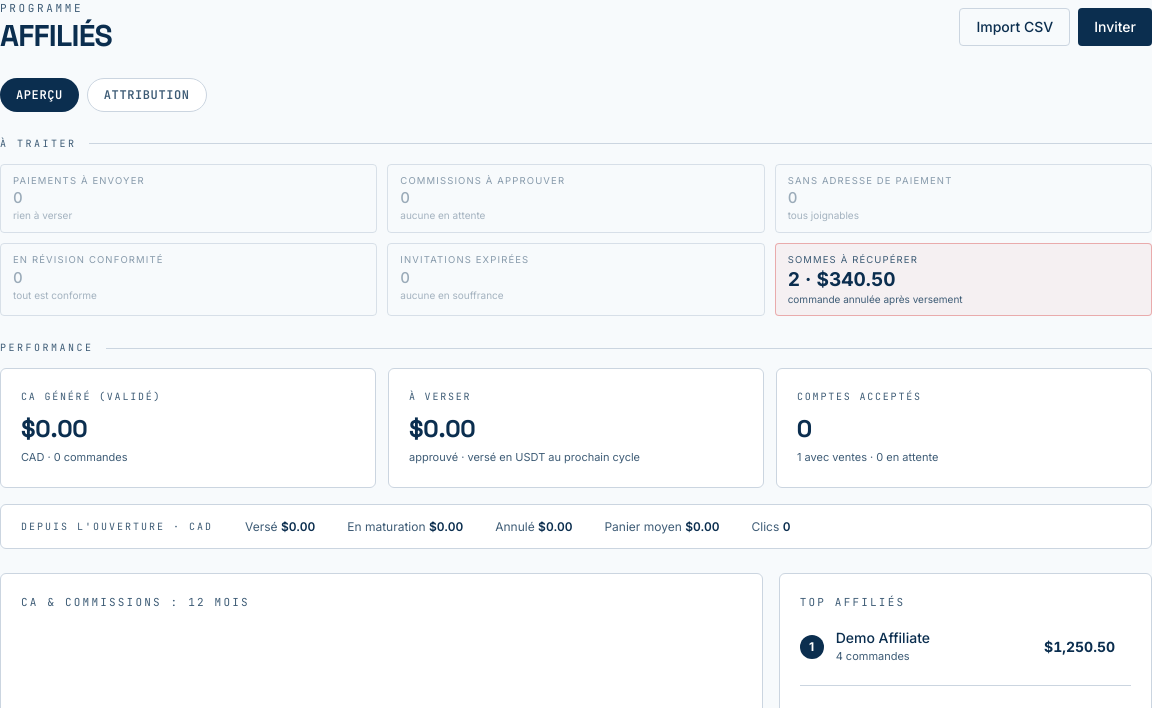
AdminAffiliates — classement des top affiliés › AdminAffiliates — conciliation des commissions › la serie commence par le mois le plus recent et se deplie
Click the button "1 Demo Affiliate 4 commandes $1,250.50": [883, 637] box [792,620,1123,673]
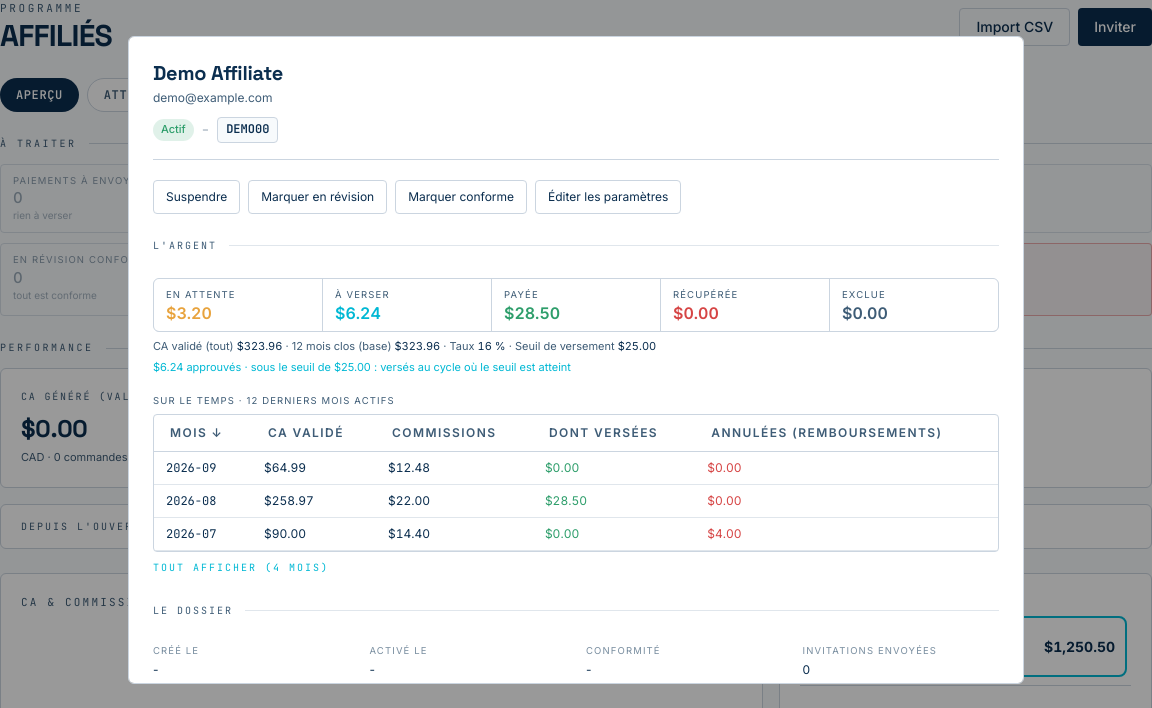
Expected: the element with test id "affiliate-figures" is shown, [153,278,999,579]
Click the button with test id "series-etendre": [241, 568] box [153,560,329,576]
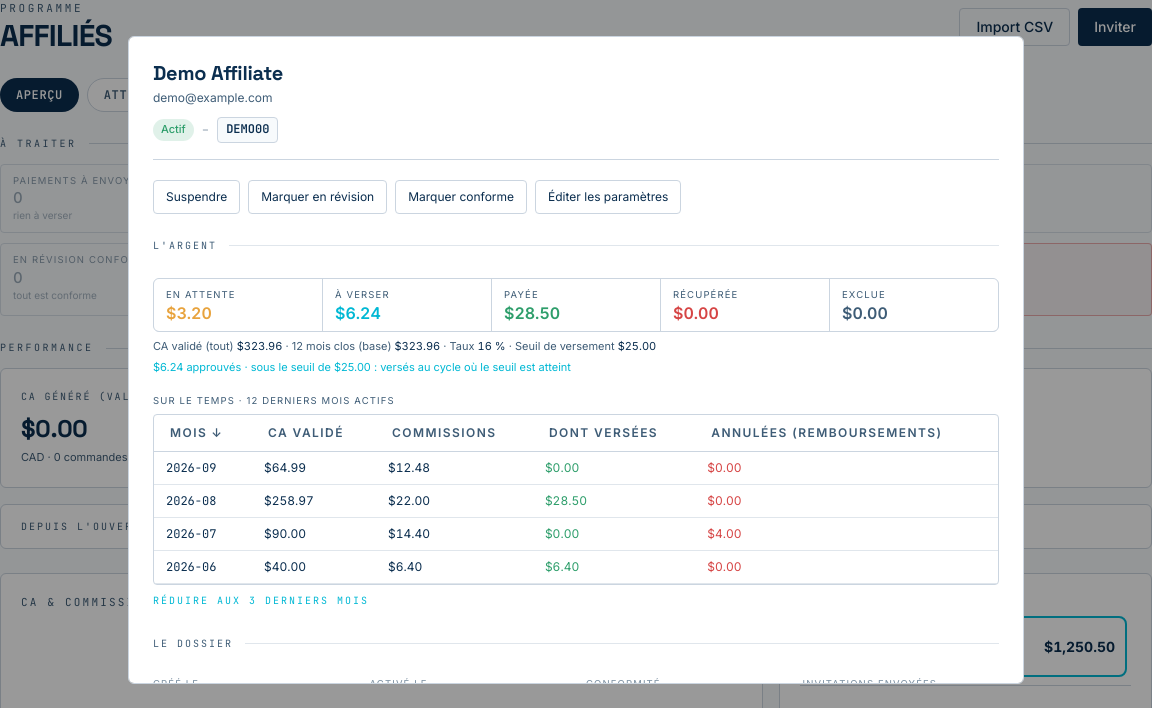
Expected: the row with test id "series-2026-06" is shown, [154,550,998,584]
